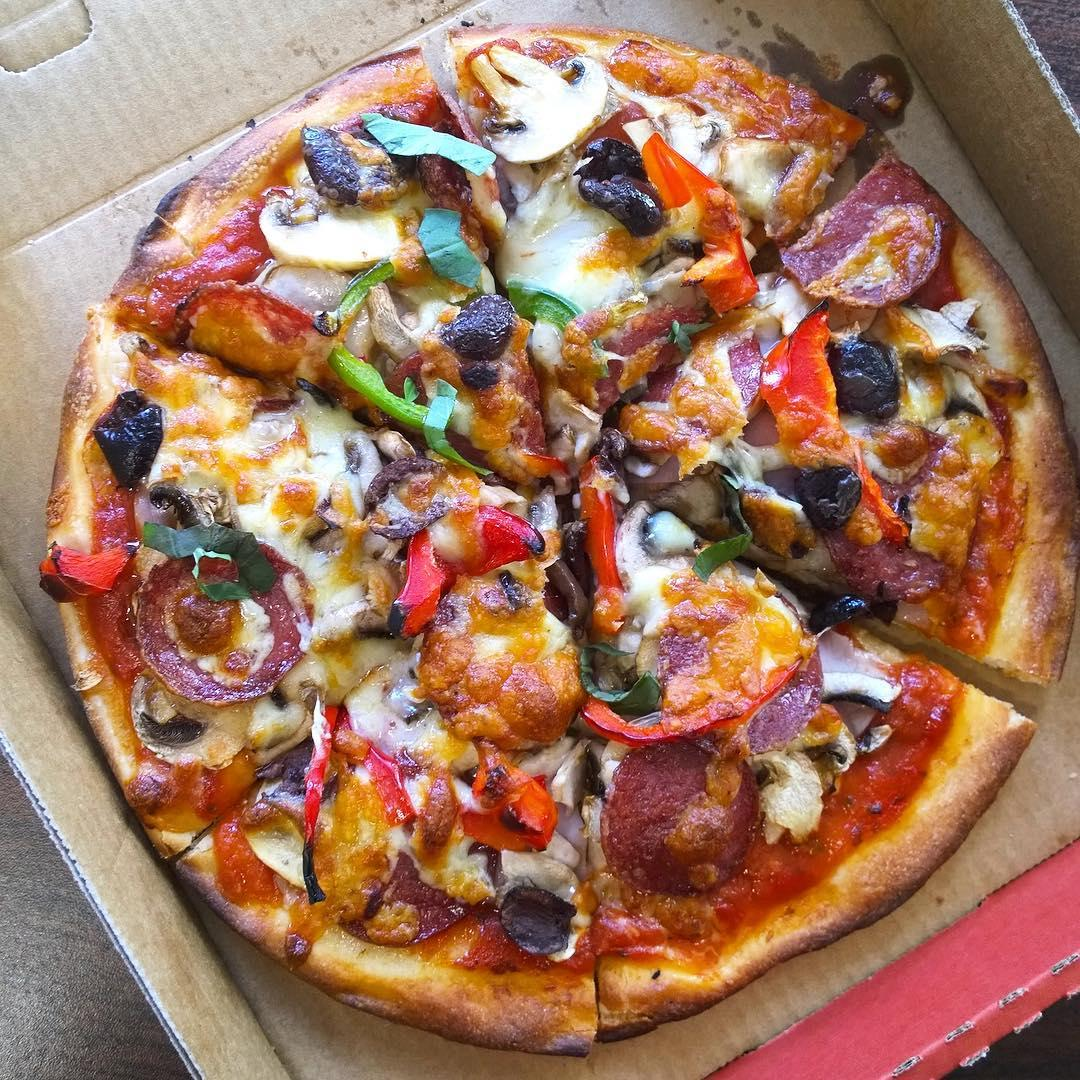Mushroom: (473, 37, 606, 168), (255, 183, 400, 262), (907, 309, 990, 425), (811, 639, 904, 717), (623, 501, 708, 580)
Olives: (573, 141, 668, 230), (293, 117, 382, 198), (827, 338, 898, 421), (107, 387, 160, 480), (437, 295, 513, 357), (501, 889, 569, 953)
Pepperoni: (409, 579, 597, 744), (129, 541, 308, 708), (303, 781, 478, 941), (657, 587, 813, 757), (601, 737, 761, 901), (785, 161, 941, 304), (605, 305, 765, 440), (827, 449, 960, 597)
Peppers: (577, 665, 802, 740), (643, 139, 750, 296), (393, 499, 526, 618), (325, 355, 468, 465), (463, 751, 548, 842), (575, 477, 626, 609), (303, 703, 345, 837), (349, 733, 413, 820), (53, 545, 126, 593)
Pizza: (47, 29, 1080, 1052)
